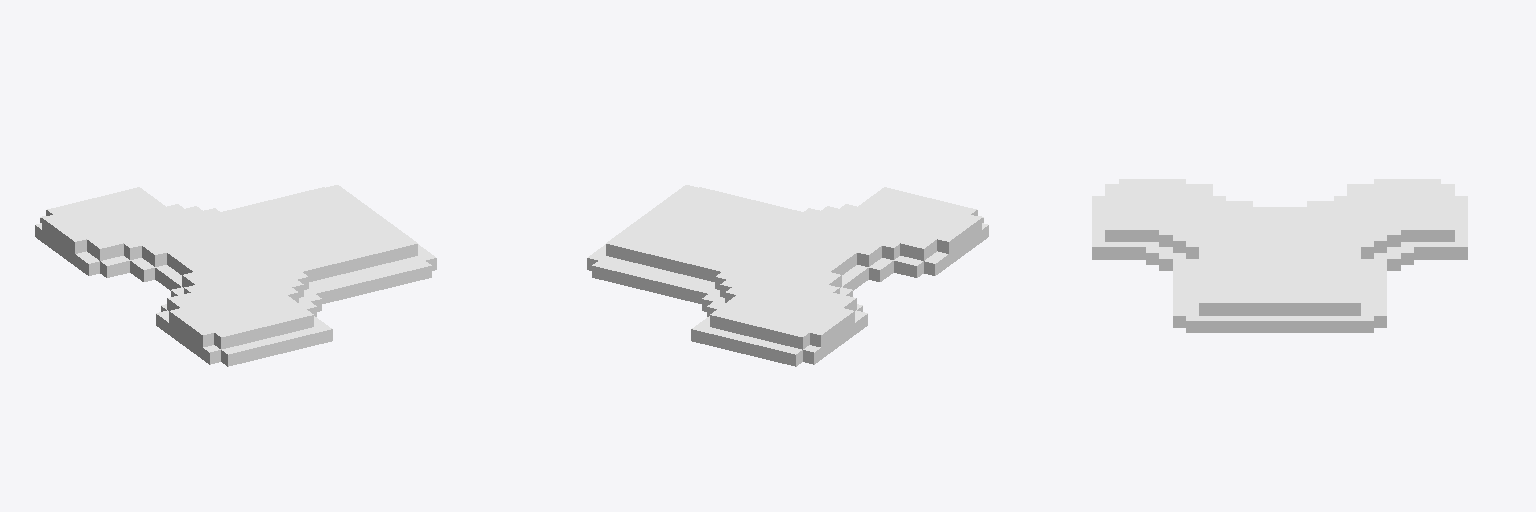
The model's file is F_Shirt.obj.
3 renders of one model, left to right at view 1: azimuth 30°, elevation 25°; view 2: azimuth 150°, elevation 25°; view 3: azimuth 270°, elevation 25°, orthographic.
Visible parts, largest first — view 1: object 1; view 2: object 1; view 3: object 1.
Boxes of the visible parts, x1,y1,x2,y2 form: object 1: [35, 185, 436, 366]; object 1: [587, 185, 988, 366]; object 1: [1092, 179, 1467, 332].
Bounding box in the file's own units: 2.3 × 0.2 × 2.8.